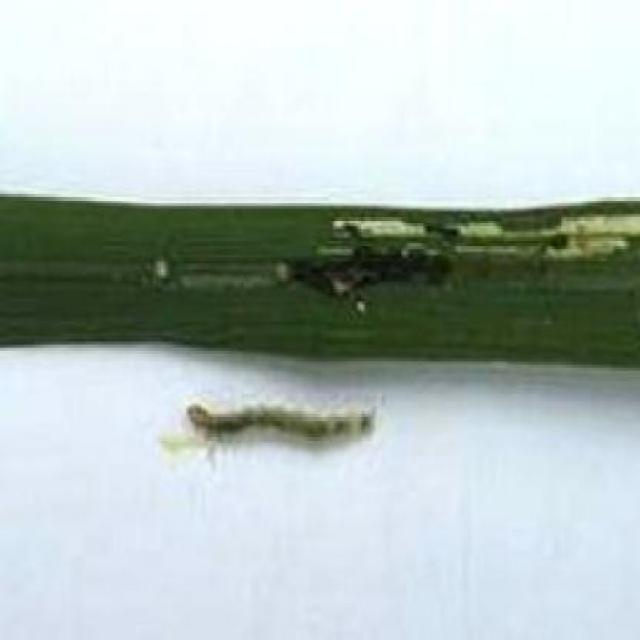leaf-folder: (165, 357, 372, 494)
